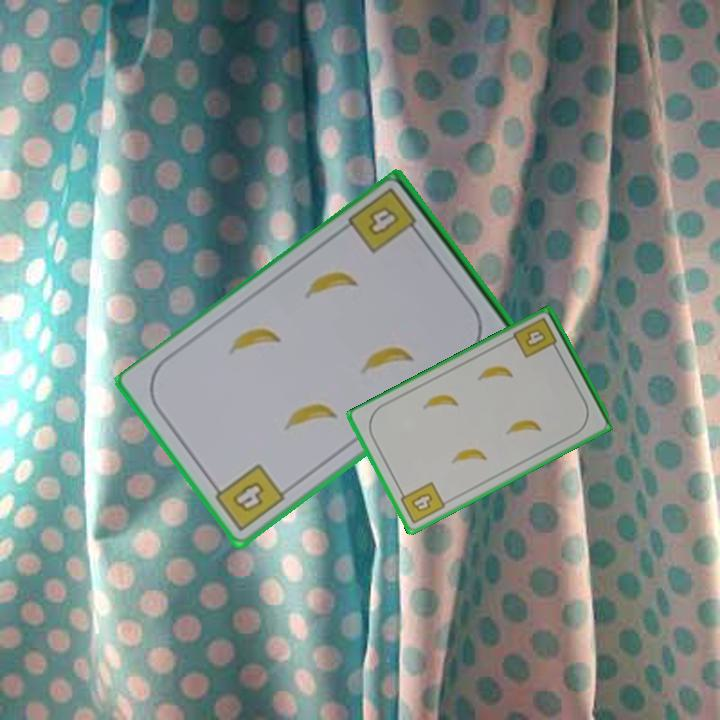4b: (208, 460, 288, 535), (345, 184, 425, 254), (395, 479, 448, 527), (510, 314, 562, 361)
